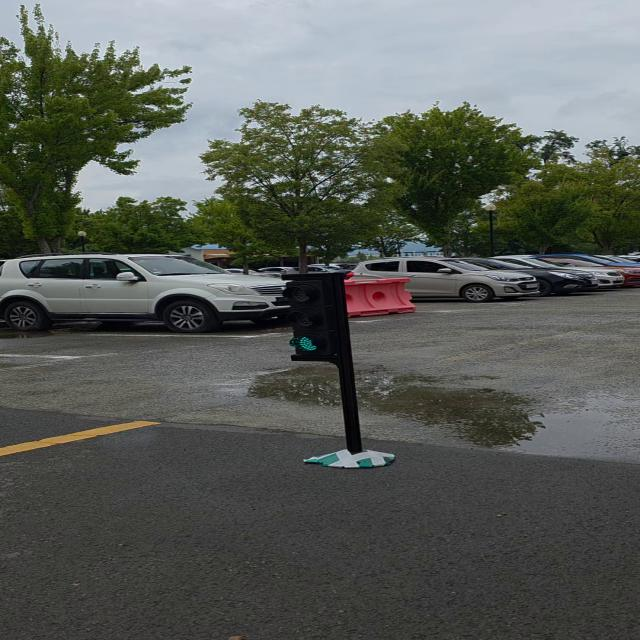green: (277, 273, 353, 361)
